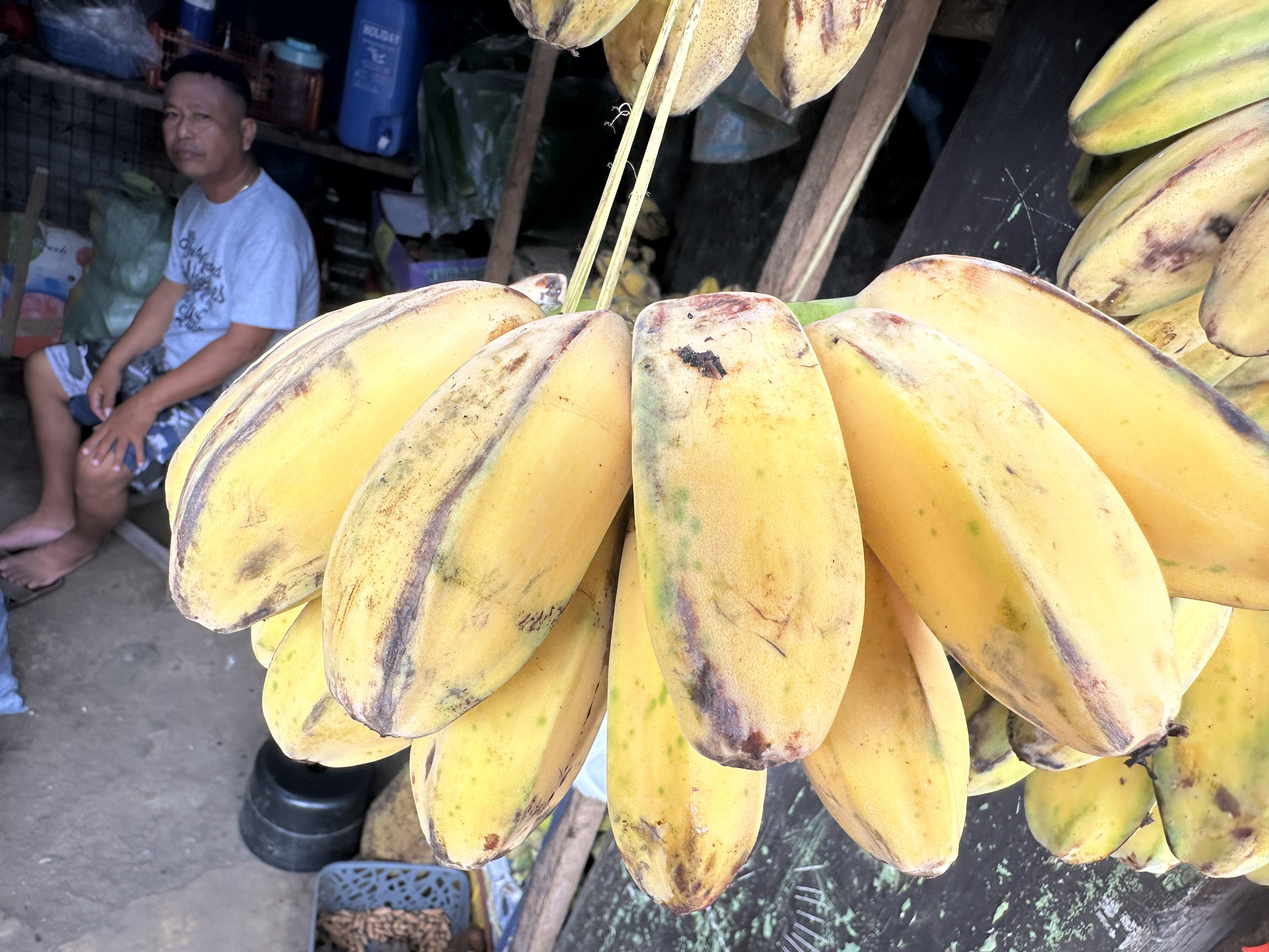ripe: (162, 253, 1269, 915), (510, 0, 890, 118)
underripe: (944, 596, 1269, 887), (1056, 0, 1269, 438)
